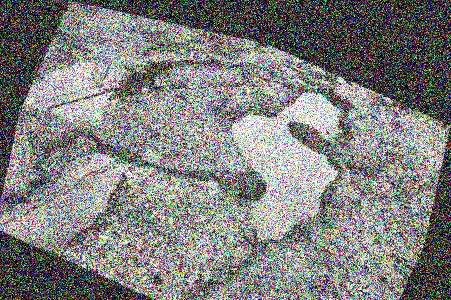pothole: (182, 46, 381, 272), (0, 99, 163, 281)
